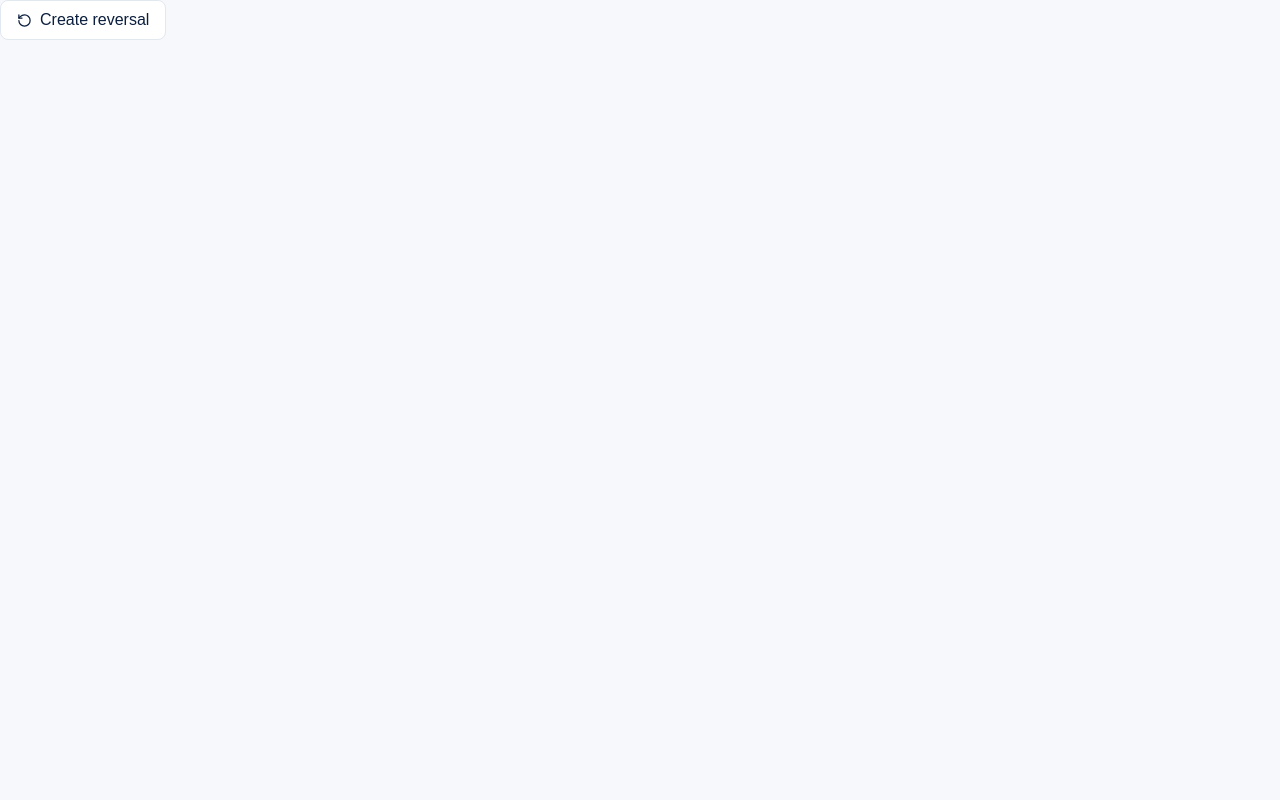
Scenario: journal workflow controls › recovers from a thrown reversal action
The image size is (1280, 800).
Click the button "Create reversal" at (83, 20), box left=0, top=0, right=166, bottom=40
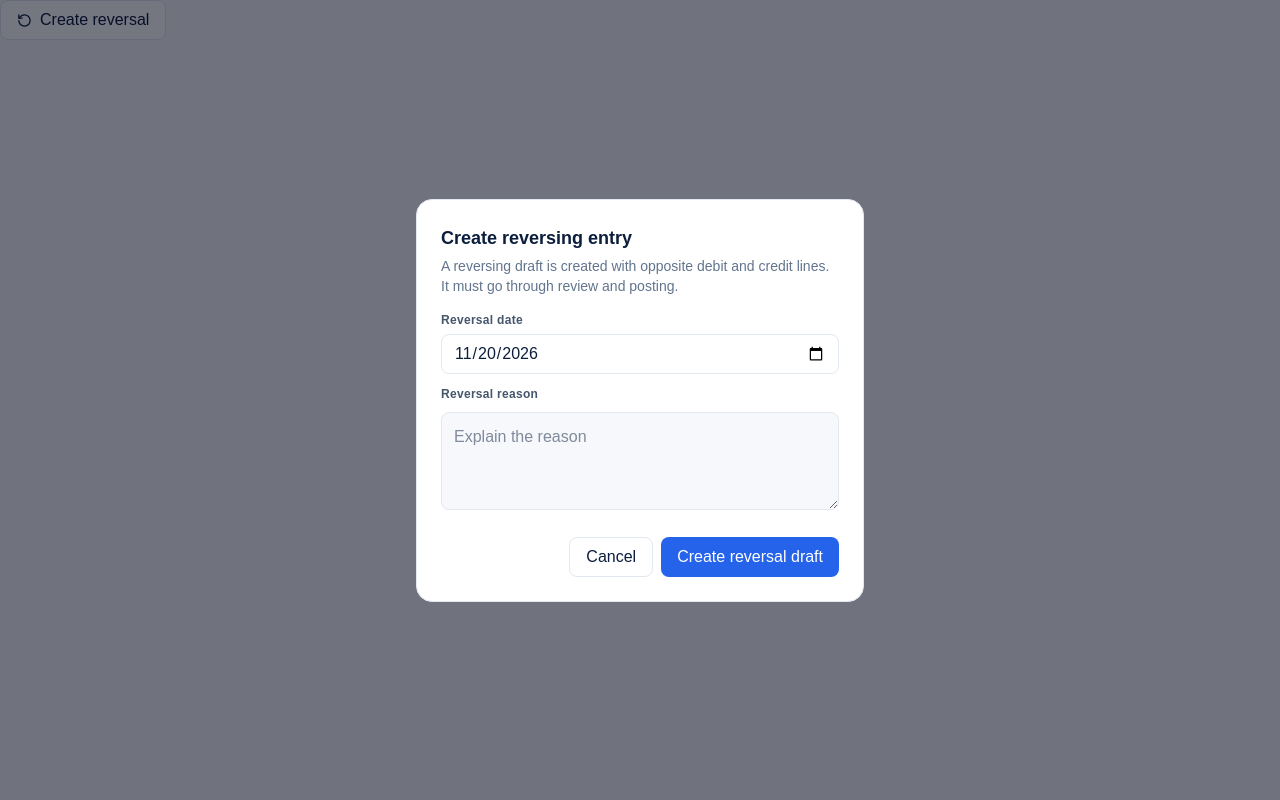
Type "Correct source entry" into the text box labelled "Reversal reason" at (640, 460), box left=441, top=412, right=839, bottom=510
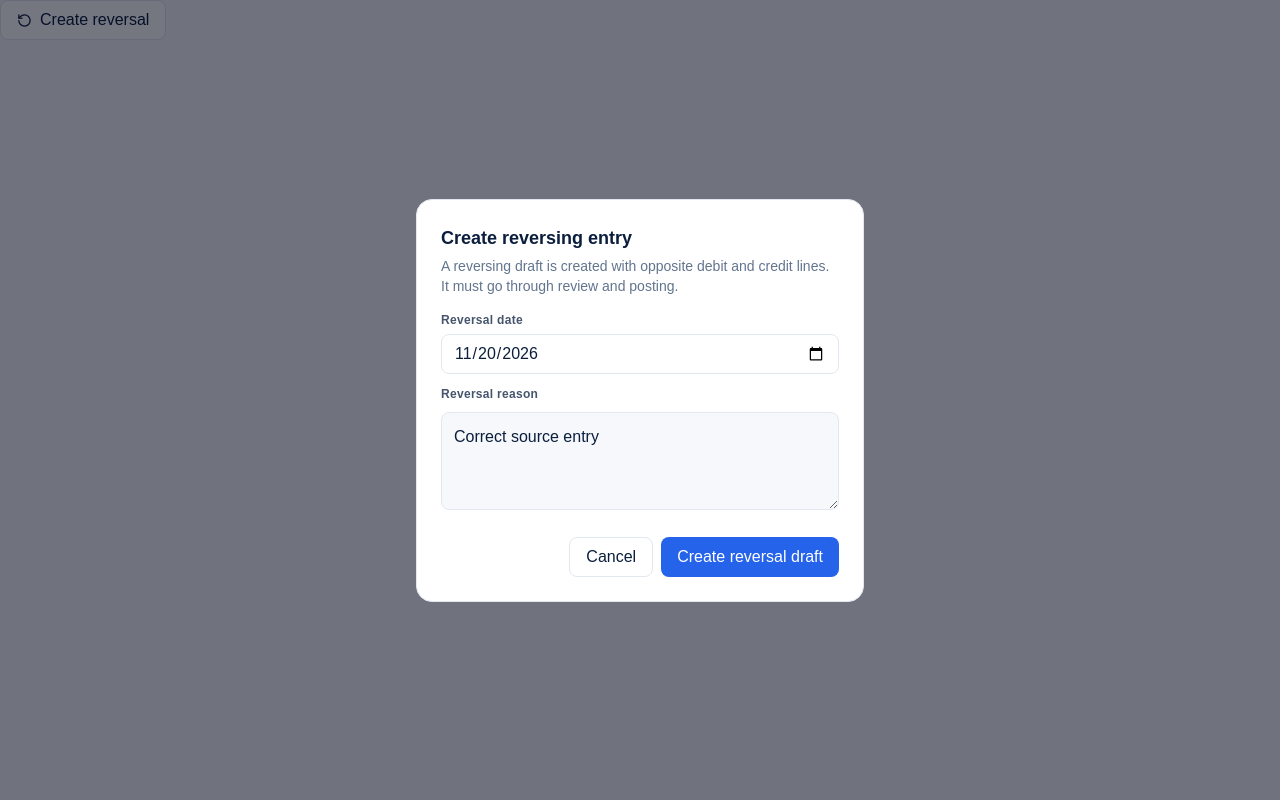
Click the button "Create reversal draft" at (750, 556), box left=661, top=536, right=839, bottom=576
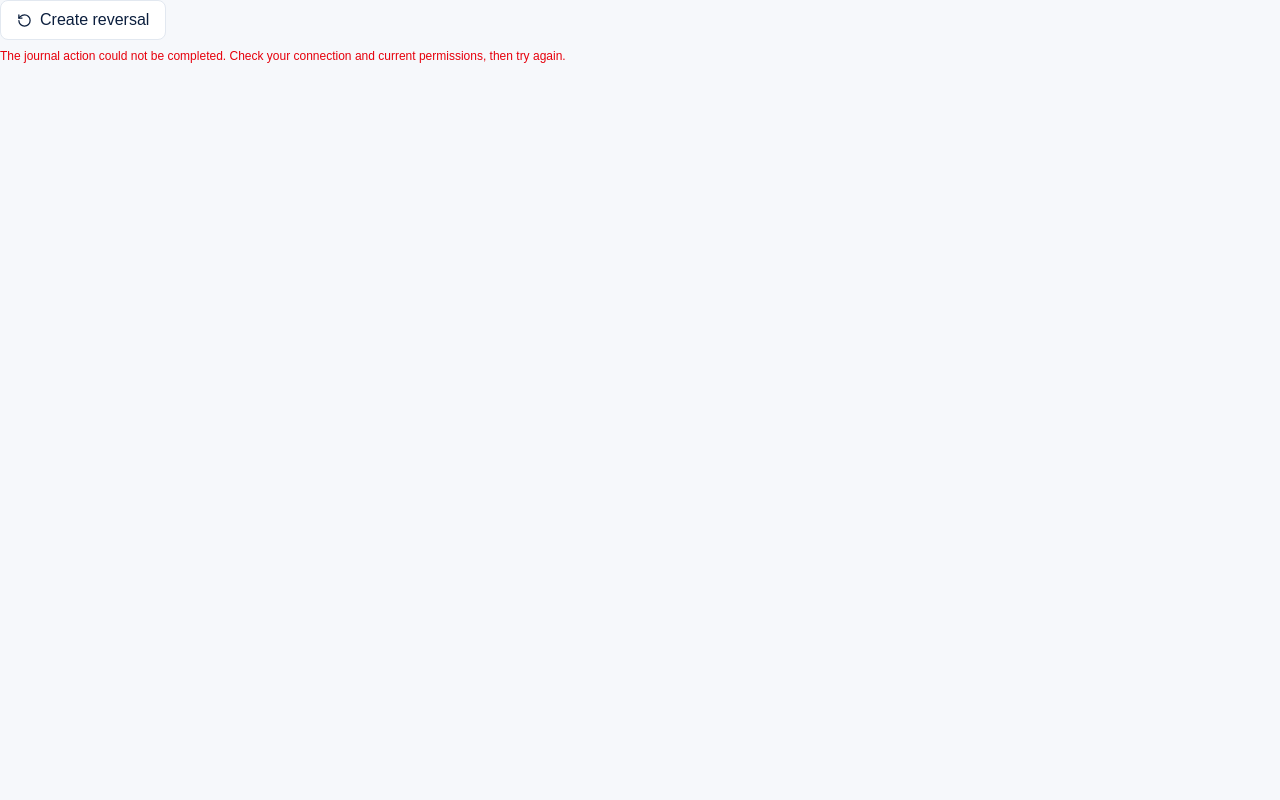
Expected: the button "Create reversal" is enabled, left=0, top=0, right=166, bottom=40
Expected: the message shows "could not be completed", left=0, top=49, right=566, bottom=63
